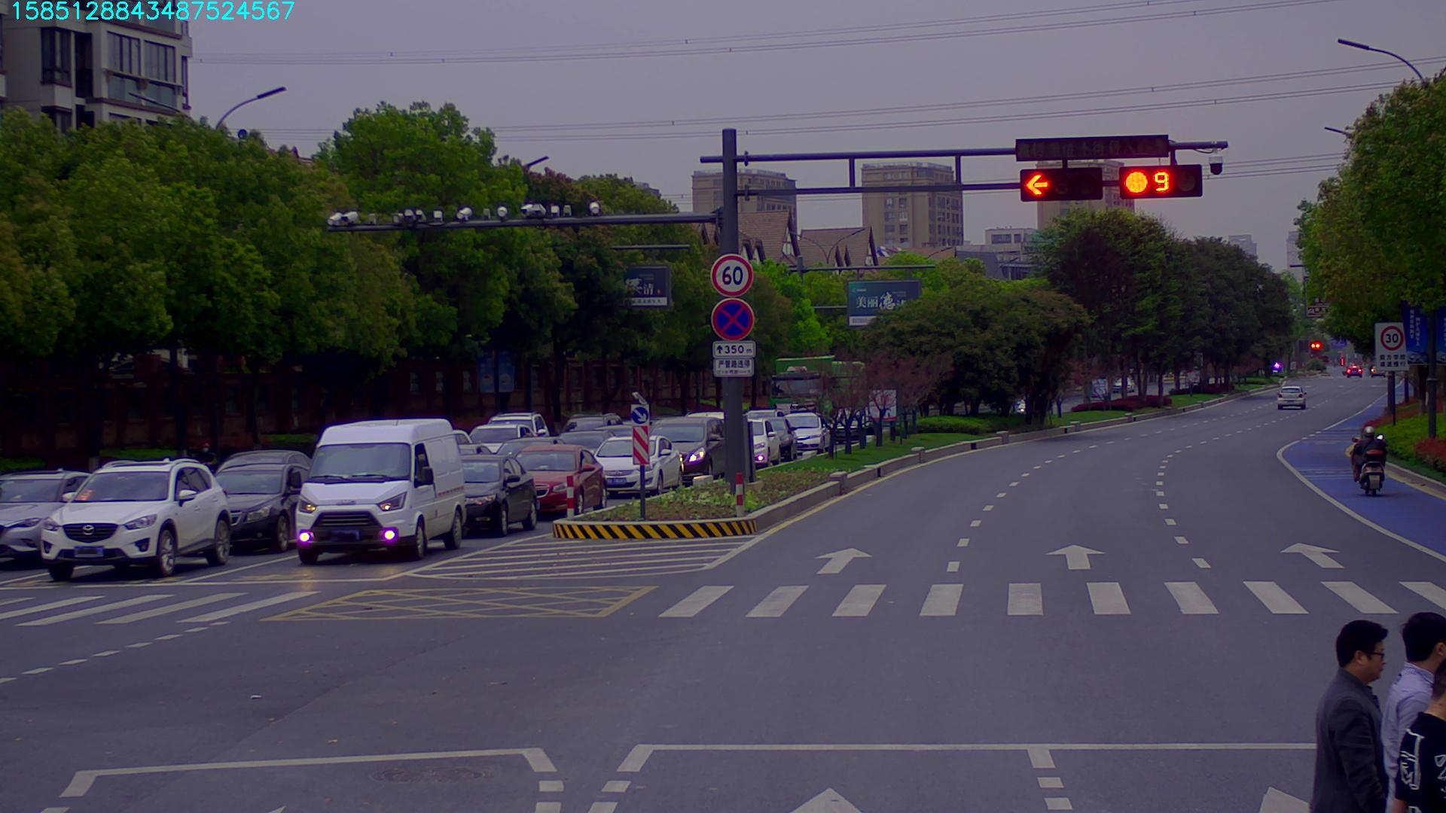red: (1020, 160, 1109, 197), (1130, 165, 1200, 195)
